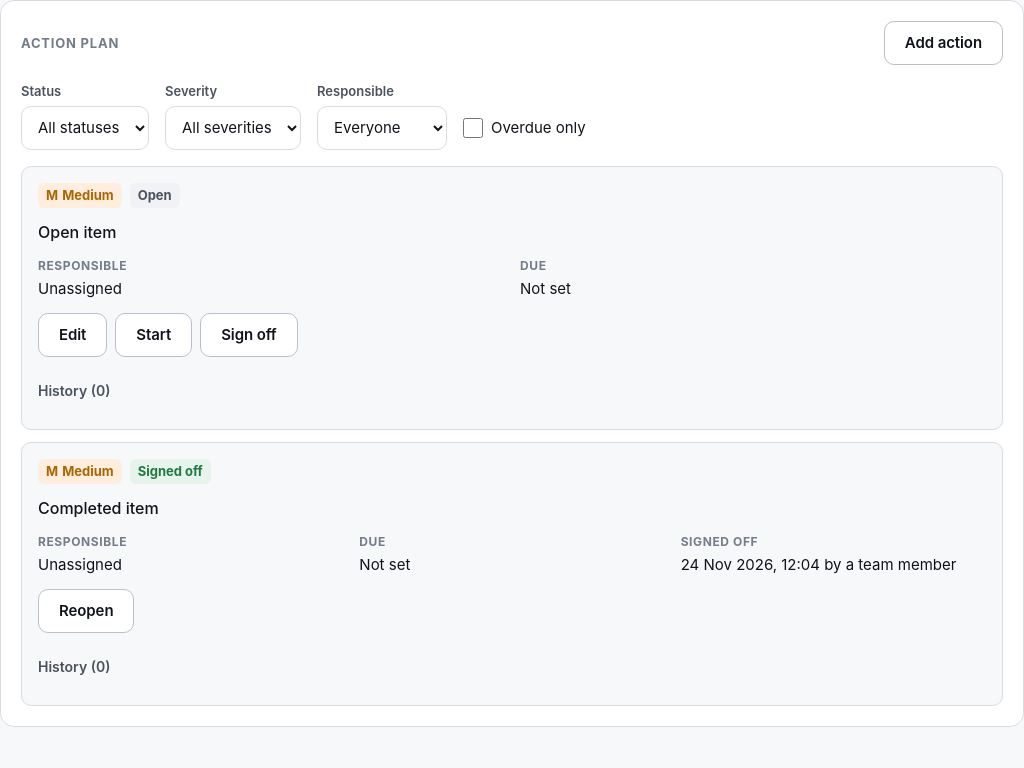
Test: ActionsPanel › filters by status
The image size is (1024, 768).
Expected: the text "Open item" is shown, [38,222,116,242]
Expected: the text "Completed item" is shown, [38,498,159,518]
Select "Open" in the dropdown labelled "Status" at [85, 128], box [21,106,149,150]
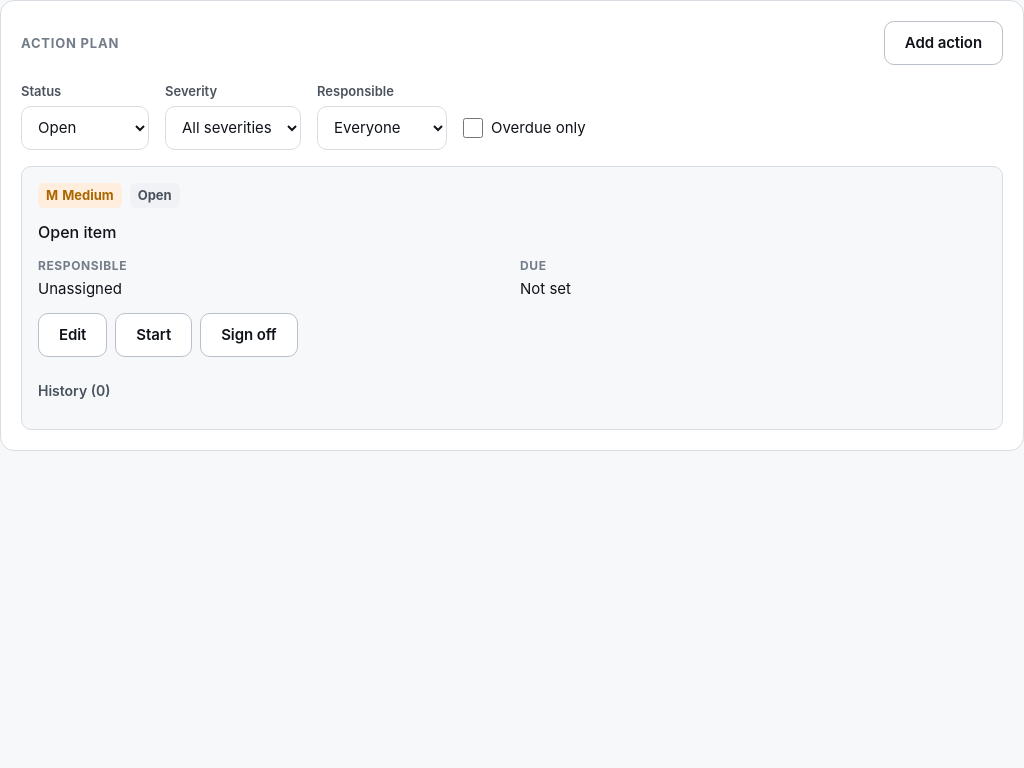
Expected: the text "Open item" is shown, [38,222,116,242]
Expected: the text "Completed item" is gone
